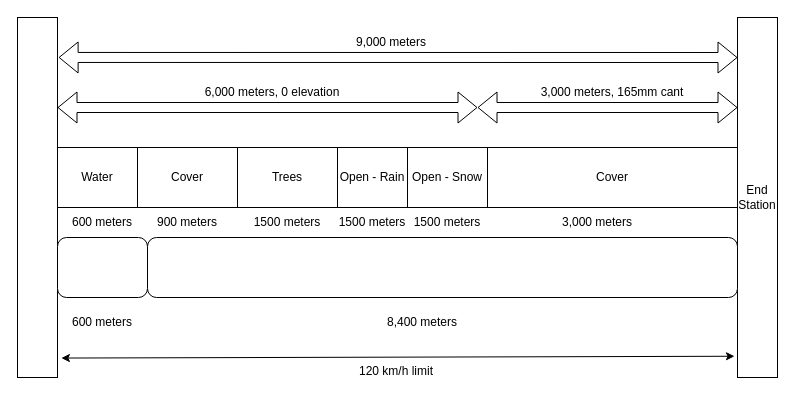
This 795x415 diagram has some shape labels left out. The box of each missing label's shape, as (x1, y1, x2, y2) in pixels:
Bridge: (56, 236, 148, 298)
Starting Station: (16, 16, 58, 378)
Straightaway: (146, 236, 738, 298)
